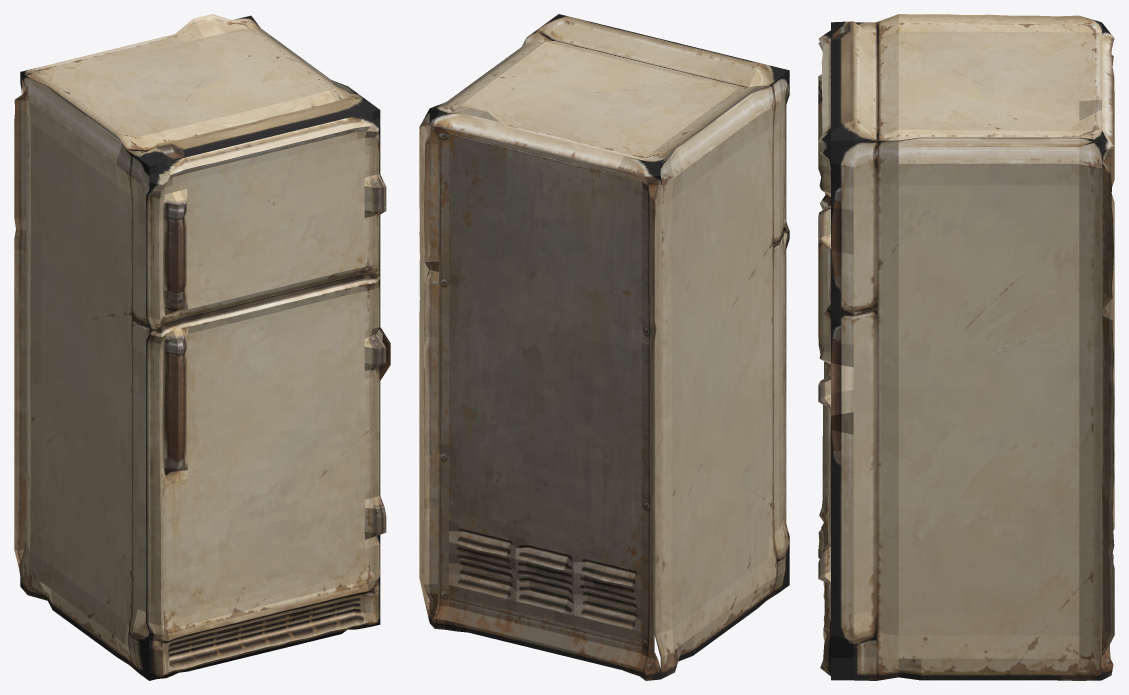
The model's file is bench_b_fridge.glb.
The picture shows the model from 3 angles, left to right: view 1: azimuth 30°, elevation 25°; view 2: azimuth 150°, elevation 25°; view 3: azimuth 270°, elevation 25°; orthographic projection. The views are drawn at different scales.
Visible parts, largest first — view 1: bench_b_fridge_front, bench_b_fridge_left, bench_b_fridge_top, bench_b_fridge_back, bench_b_fridge_right; view 2: bench_b_fridge_back, bench_b_fridge_left, bench_b_fridge_top, bench_b_fridge_right, bench_b_fridge_front; view 3: bench_b_fridge_right, bench_b_fridge_top, bench_b_fridge_back, bench_b_fridge_front.
Boxes of the visible parts, <box> form: bench_b_fridge_front: <box>146,110,386,680</box>; bench_b_fridge_left: <box>20,72,154,680</box>; bench_b_fridge_top: <box>20,14,379,166</box>; bench_b_fridge_back: <box>14,72,119,574</box>; bench_b_fridge_right: <box>253,20,390,543</box>; bench_b_fridge_back: <box>423,108,662,680</box>; bench_b_fridge_left: <box>654,70,789,678</box>; bench_b_fridge_top: <box>430,14,789,164</box>; bench_b_fridge_right: <box>419,30,536,621</box>; bench_b_fridge_front: <box>661,71,789,540</box>; bench_b_fridge_right: <box>831,137,1101,680</box>; bench_b_fridge_top: <box>831,14,1101,146</box>; bench_b_fridge_back: <box>1094,23,1114,680</box>; bench_b_fridge_front: <box>818,30,832,675</box>.
Size of the model in its own units: 0.8305 by 1.68 by 0.82.
1 material, 1 textured.
